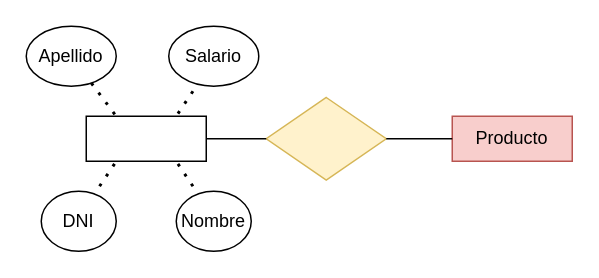
Some shapes in this 599 by 278 pixel diagram are drawn without their labels. The shapes that lost their labels are listed below. From the top down, each one's centre as x and y in pixels, then its label:
At (x=145, y=138): "Camioneros".
At (x=325, y=138): "Transporte".
